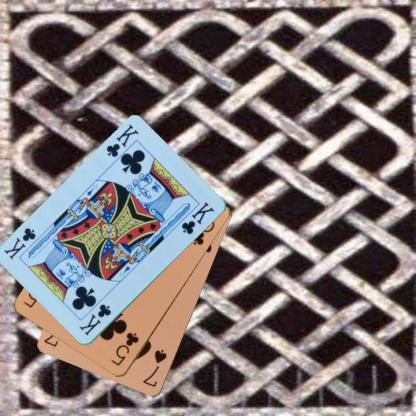5c: (108, 330, 140, 367)
7s: (140, 347, 168, 389)
Kc: (76, 302, 113, 338), (104, 122, 140, 159)
